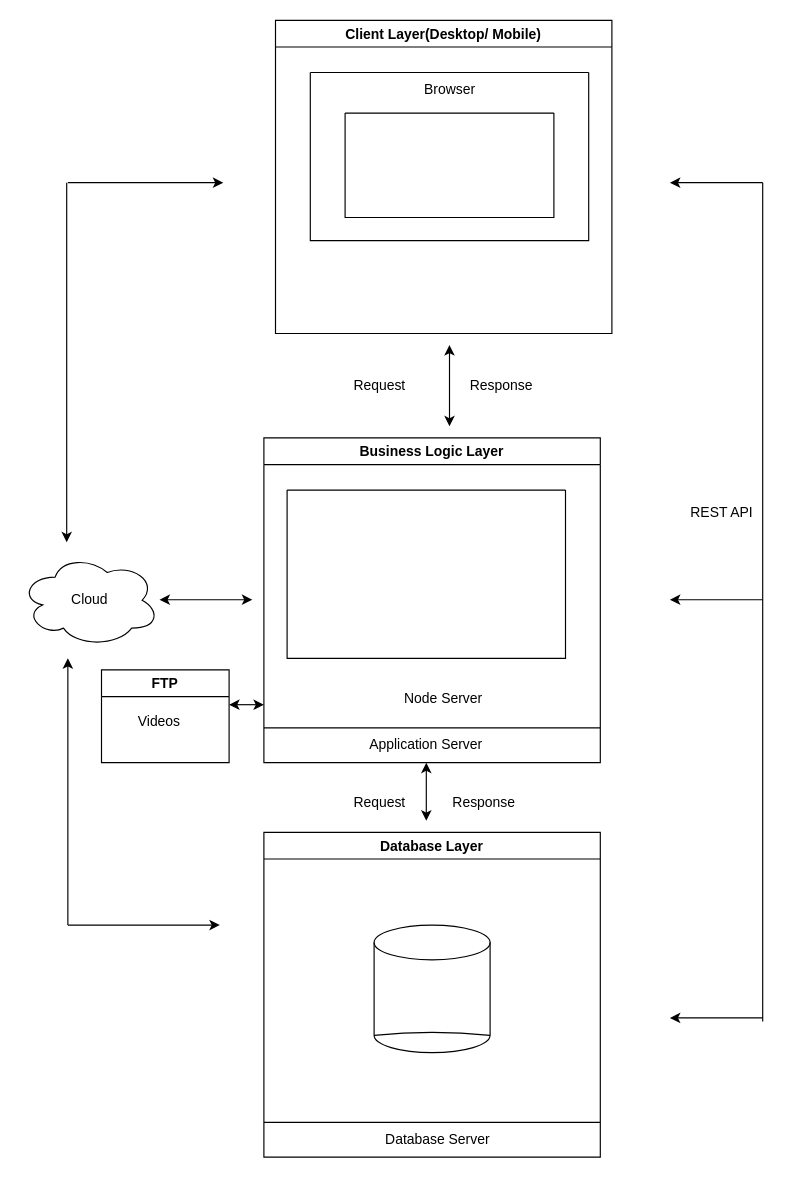
This 792x1177 diagram has some shape labels left out. Here are the shapes that lost their labels. From the top down, the centre of each, then its label:
At (449,164): "HTML/CSS Javascript (React App)".
At (426,573): "Express Application".
At (431,988): "Mongodb Database".
